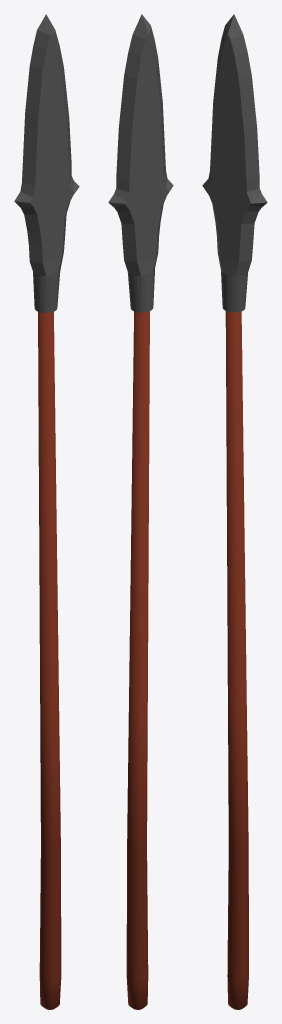
File: Spear_Colored (1).fbx
3 views of the same model, side by side, from view 1: azimuth 30°, elevation 25°; view 2: azimuth 210°, elevation 25°; view 3: azimuth 330°, elevation 25° (orthographic).
Parts seen in each view (by area): view 1: Handle; view 2: Handle; view 3: Handle.
Part boxes in pixels (x1=…): Handle: x1=14, y1=14, x2=79, y2=1009; Handle: x1=108, y1=14, x2=173, y2=1009; Handle: x1=202, y1=14, x2=267, y2=1009.
Size of the model in its own units: 39.63 by 575 by 13.09.
